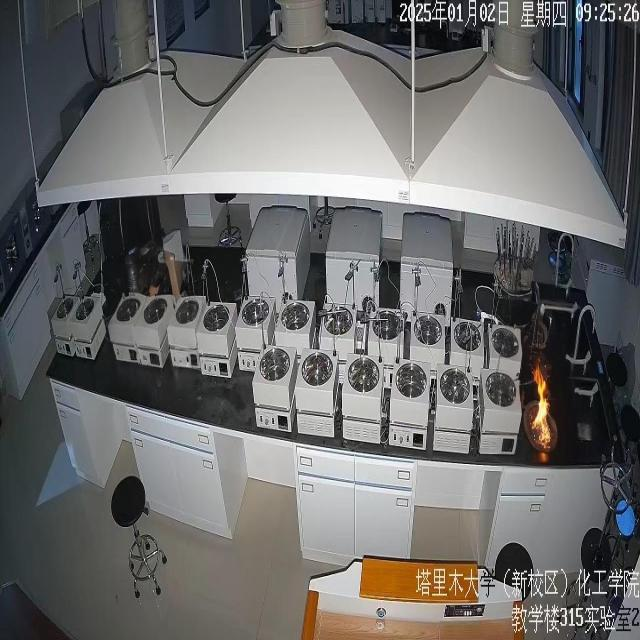smoke: (531, 360, 553, 446)
